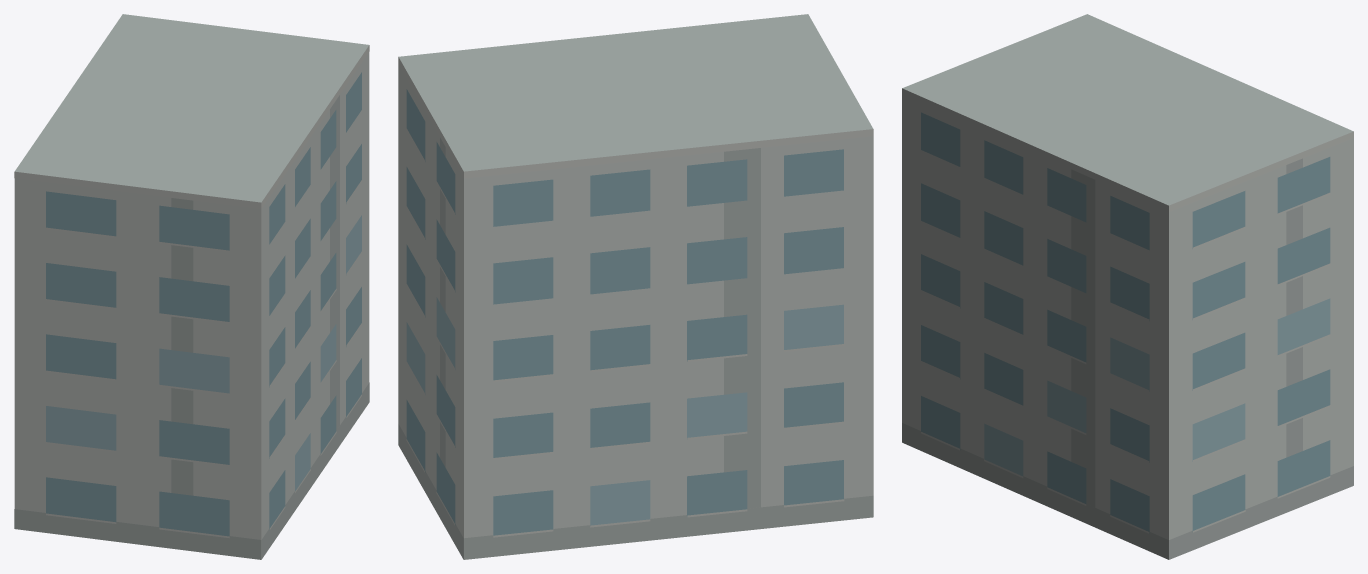
File: survey-upis-32848948.glb
The picture shows the model from 3 angles, left to right: view 1: azimuth 30°, elevation 25°; view 2: azimuth 150°, elevation 25°; view 3: azimuth 270°, elevation 25°; orthographic projection. The views are drawn at different scales.
Visible parts, largest first — view 1: survey-upis-32848948.tmp; view 2: survey-upis-32848948.tmp; view 3: survey-upis-32848948.tmp.
Boxes of the visible parts, x1,y1,x2,y2 form: survey-upis-32848948.tmp: (14,14,369,559); survey-upis-32848948.tmp: (398,14,873,559); survey-upis-32848948.tmp: (902,14,1353,559).
Size of the model in its own units: 15.32 by 13.2 by 15.26.
